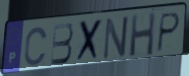B: (50, 21, 75, 67)
C: (23, 25, 49, 68)
H: (128, 10, 157, 58)
N: (101, 14, 130, 62)
P: (154, 11, 182, 54)
X: (74, 17, 104, 64)
